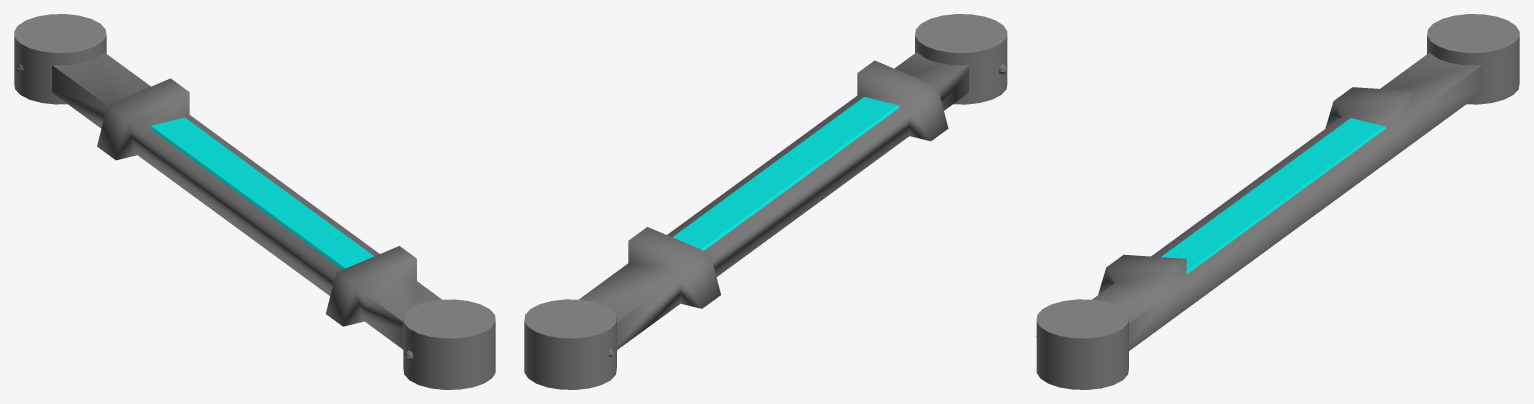
The model's file is KUN.fbx.
3 renders of one model, left to right at view 1: azimuth 30°, elevation 25°; view 2: azimuth 150°, elevation 25°; view 3: azimuth 330°, elevation 25°, orthographic.
Parts seen in each view (by area): view 1: pCube5, pCylinder15, pCube6, pCylinder5; view 2: pCube5, pCylinder5, pCube6, pCylinder15; view 3: pCube5, pCylinder15, pCube6, pCylinder5.
Boxes of the visible parts, x1=… form: pCube5: x1=52, y1=52, x2=441, y2=349; pCylinder15: x1=403, y1=299, x2=495, y2=389; pCube6: x1=149, y1=117, x2=374, y2=269; pCylinder5: x1=14, y1=14, x2=106, y2=104; pCube5: x1=579, y1=52, x2=968, y2=349; pCylinder5: x1=524, y1=299, x2=616, y2=389; pCube6: x1=672, y1=97, x2=899, y2=250; pCylinder15: x1=915, y1=14, x2=1007, y2=104; pCube5: x1=1092, y1=52, x2=1482, y2=350; pCylinder15: x1=1036, y1=299, x2=1128, y2=389; pCube6: x1=1161, y1=118, x2=1385, y2=273; pCylinder5: x1=1427, y1=14, x2=1519, y2=104.
Size of the model in its own units: 0.4543 by 0.3055 by 3.92.
